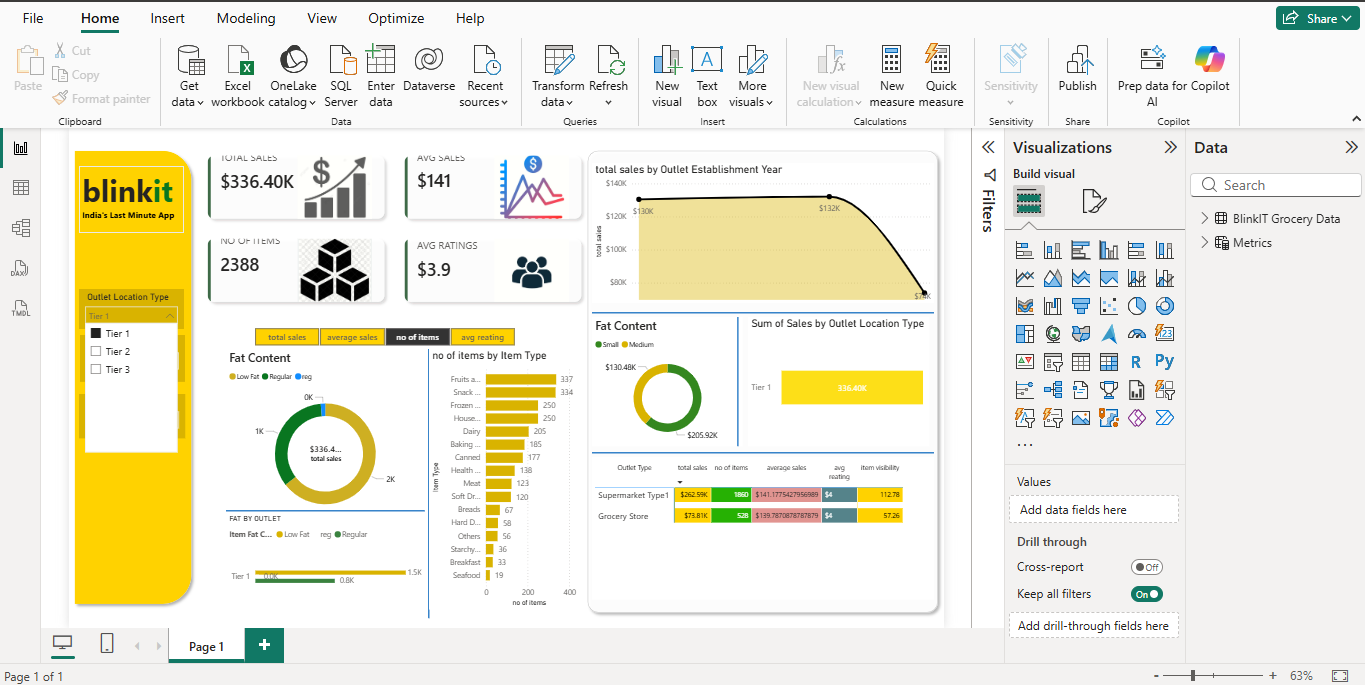

What the dashboard file says about the page in this screenshot:
{"tool":"powerbi","page":{"name":"Page 1","canvas":[1400,800],"ordinal":0},"visuals":[{"type":"shape","box":[0,27.8,204.9,743.3],"z":0},{"type":"textbox","box":[15.6,60.8,168.5,107.7],"z":1000},{"type":"cardVisual","fields":{"Data":["BlinkIT Grocery Data.total sales","BlinkIT Grocery Data.average sales","BlinkIT Grocery Data.no of items","BlinkIT Grocery Data.avg reating"]},"box":[204.9,27.8,632.1,269.2],"z":2000},{"type":"shape","box":[821.4,27.8,578.3,757.2],"z":3000},{"type":"donutChart","title":"Fat Content","fields":{"Y":["BlinkIT Grocery Data.no of items"],"Category":["BlinkIT Grocery Data.Item Fat Content"],"Series":["BlinkIT Grocery Data.Item Fat Content"]},"box":[251.8,354.3,317.8,283.1],"z":4000},{"type":"slicer","fields":{"Values":["Metrics.Metrics"]},"box":[272.7,314.3,465.4,39.9],"z":5000},{"type":"cardVisual","fields":{"Data":["BlinkIT Grocery Data.total sales"]},"box":[368.2,493.2,86.8,53.8],"z":6000},{"type":"clusteredBarChart","title":"FAT BY OUTLET","fields":{"Y":["BlinkIT Grocery Data.no of items"],"Category":["BlinkIT Grocery Data.Outlet Location Type"],"Series":["BlinkIT Grocery Data.Item Fat Content"]},"box":[251.8,618.2,317.8,152.8],"z":7000},{"type":"shape","box":[251.8,606.1,317.8,12.2],"z":8000},{"type":"shape","box":[569.6,354.3,12.2,430.7],"z":9000},{"type":"lineChart","fields":{"Y":["BlinkIT Grocery Data.total sales"],"Category":["BlinkIT Grocery Data.Outlet Establishment Year"]},"box":[837.1,55.6,547,224],"z":10000},{"type":"shape","box":[837.1,290,547,12.2],"z":11000},{"type":"donutChart","title":"Fat Content","fields":{"Y":["BlinkIT Grocery Data.total sales"],"Category":["BlinkIT Grocery Data.Outlet Size"]},"box":[837.1,302.2,241.4,206.7],"z":12000},{"type":"shape","box":[837.1,514,547,12.2],"z":13000},{"type":"shape","box":[1062.8,302.2,15.6,206.7],"z":14000},{"type":"pivotTable","fields":{"Rows":["BlinkIT Grocery Data.Outlet Type"],"Values":["BlinkIT Grocery Data.total sales","BlinkIT Grocery Data.no of items","BlinkIT Grocery Data.average sales","BlinkIT Grocery Data.avg reating","Sum(BlinkIT Grocery Data.Item Visibility)"]},"box":[837.1,526.2,547,227.5],"z":15000},{"type":"barChart","fields":{"Y":["BlinkIT Grocery Data.no of items"],"Category":["BlinkIT Grocery Data.Item Type"]},"box":[576.6,354.3,244.9,416.8],"z":16000},{"type":"funnel","fields":{"Y":["Sum(BlinkIT Grocery Data.Sales)"],"Category":["BlinkIT Grocery Data.Outlet Location Type"]},"box":[1087.1,302.2,290,206.7],"z":17000},{"type":"slicer","fields":{"Values":["BlinkIT Grocery Data.Outlet Location Type"]},"box":[15.6,257,168.5,64.3],"z":18000},{"type":"slicer","fields":{"Values":["BlinkIT Grocery Data.Outlet Size"]},"box":[17.4,331.7,168.5,74.7],"z":19000},{"type":"slicer","fields":{"Values":["BlinkIT Grocery Data.Item Type"]},"box":[15.6,425.5,170.2,71.2],"z":20000}]}

Visuals, with their boxes on the page's 1400x800 design canvas (x1, y1, x2, y2). These are canvas units, not pixel positions in the 1365x685 screenshot, which may show the page scaled, cropped or inside an application window:
shape: <region>0, 28, 205, 771</region>
textbox: <region>16, 61, 184, 168</region>
cardVisual - BlinkIT Grocery Data.total sales x BlinkIT Grocery Data.average sales: <region>205, 28, 837, 297</region>
shape: <region>821, 28, 1400, 785</region>
"Fat Content" donutChart: <region>252, 354, 570, 637</region>
slicer - Metrics.Metrics: <region>273, 314, 738, 354</region>
cardVisual - BlinkIT Grocery Data.total sales: <region>368, 493, 455, 547</region>
"FAT BY OUTLET" clusteredBarChart: <region>252, 618, 570, 771</region>
shape: <region>252, 606, 570, 618</region>
shape: <region>570, 354, 582, 785</region>
lineChart - BlinkIT Grocery Data.total sales x BlinkIT Grocery Data.Outlet Establishment Year: <region>837, 56, 1384, 280</region>
shape: <region>837, 290, 1384, 302</region>
"Fat Content" donutChart: <region>837, 302, 1078, 509</region>
shape: <region>837, 514, 1384, 526</region>
shape: <region>1063, 302, 1078, 509</region>
pivotTable - BlinkIT Grocery Data.Outlet Type x BlinkIT Grocery Data.total sales: <region>837, 526, 1384, 754</region>
barChart - BlinkIT Grocery Data.no of items x BlinkIT Grocery Data.Item Type: <region>577, 354, 822, 771</region>
funnel - Sum(BlinkIT Grocery Data.Sales) x BlinkIT Grocery Data.Outlet Location Type: <region>1087, 302, 1377, 509</region>
slicer - BlinkIT Grocery Data.Outlet Location Type: <region>16, 257, 184, 321</region>
slicer - BlinkIT Grocery Data.Outlet Size: <region>17, 332, 186, 406</region>
slicer - BlinkIT Grocery Data.Item Type: <region>16, 426, 186, 497</region>
